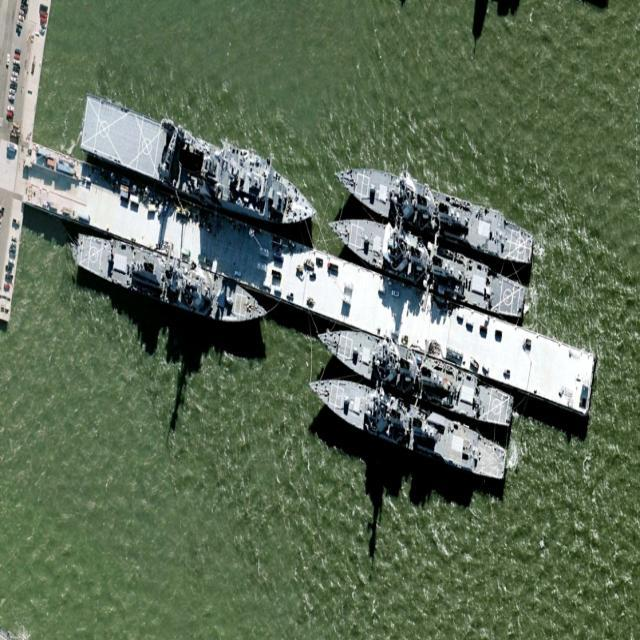Destroyer: (322, 200, 527, 326), (303, 362, 509, 486), (331, 150, 536, 270), (313, 316, 516, 436), (72, 227, 271, 335)
Landing: (78, 88, 320, 239)
